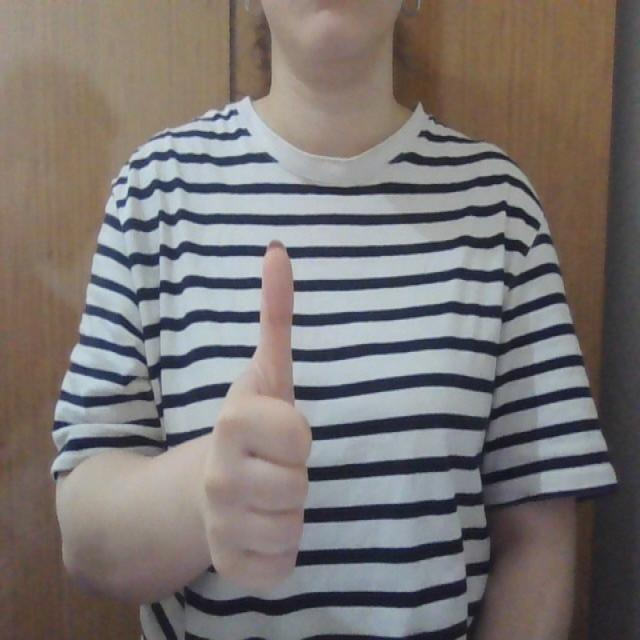Tamam: (192, 228, 320, 602)
